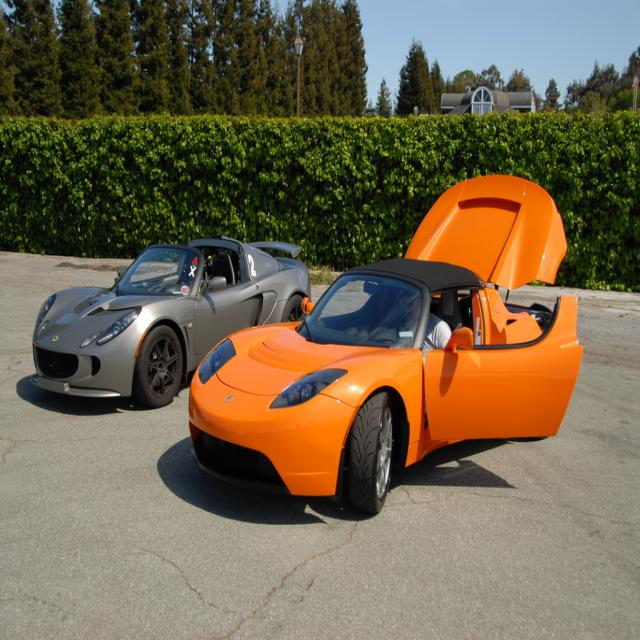car: (184, 164, 584, 514), (27, 231, 313, 409)
